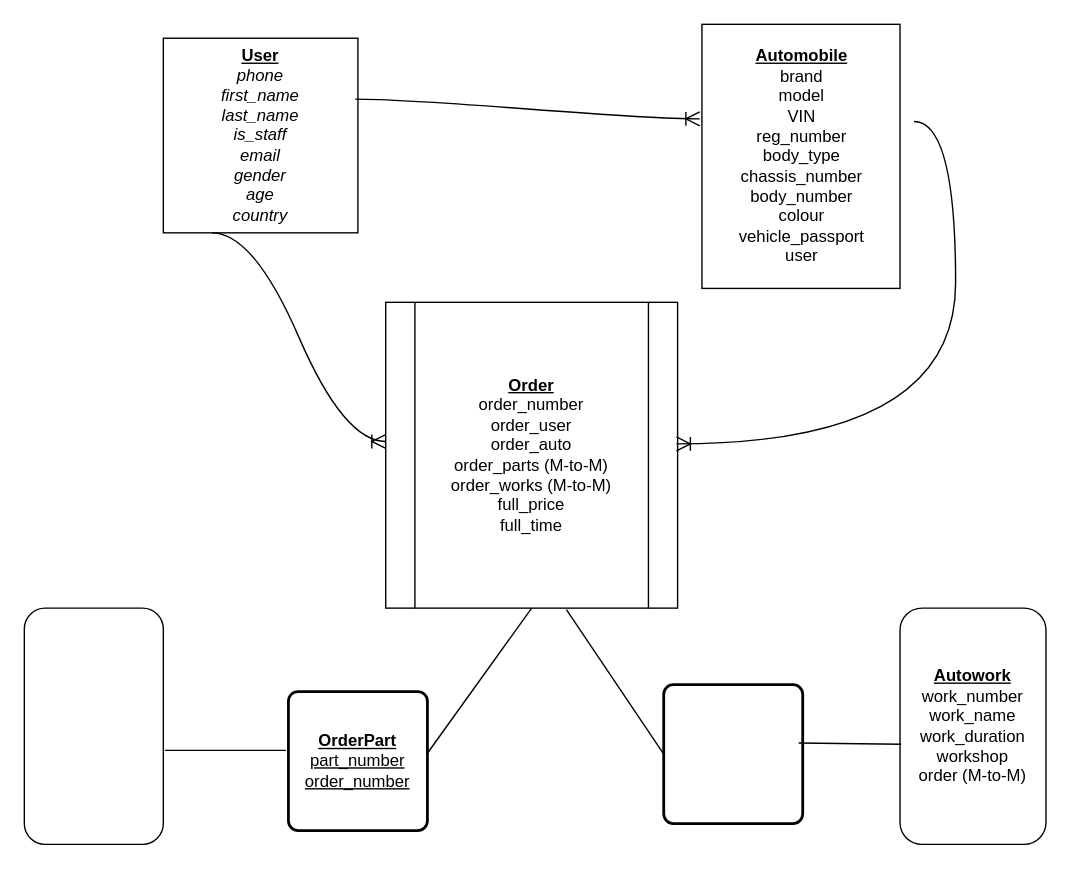
The diagram is 1070 pixels wide and 869 high, and some of its shapes have lost their labels. The shapes that lost their labels are listed below. From the top down, each one's centre as x and y in pixels, then its label:
the point at 93,725: Sparepart part_name part_number brand part_image price vendor order (M-to-M)
the point at 732,753: OrderWork work_number order_number
